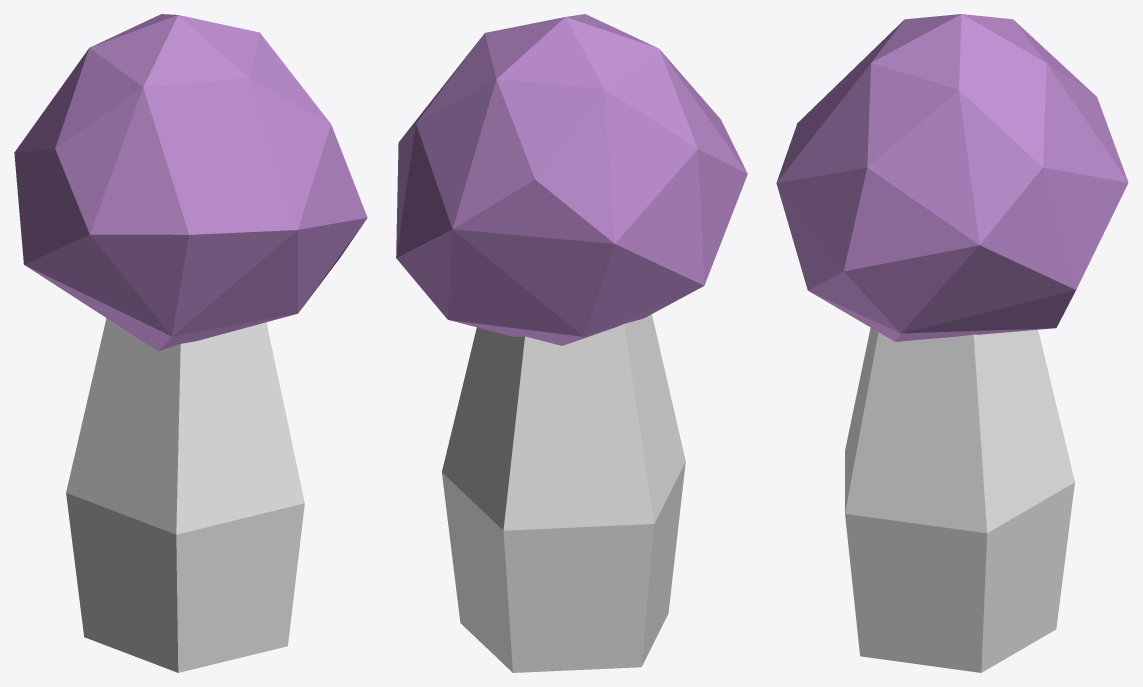
The model's file is Mushroom_k_04.fbx.
3 views of the same model, side by side, from view 1: azimuth 30°, elevation 25°; view 2: azimuth 150°, elevation 25°; view 3: azimuth 270°, elevation 25° (orthographic). The views are drawn at different scales.
Parts seen in each view (by area): view 1: Mushroom_k_04; view 2: Mushroom_k_04; view 3: Mushroom_k_04.
Boxes of the visible parts, <box> form: Mushroom_k_04: <box>14,14,367,672</box>; Mushroom_k_04: <box>396,14,747,672</box>; Mushroom_k_04: <box>776,14,1128,672</box>.
Bounding box in the file's own units: 10.31 × 20.02 × 10.42.
